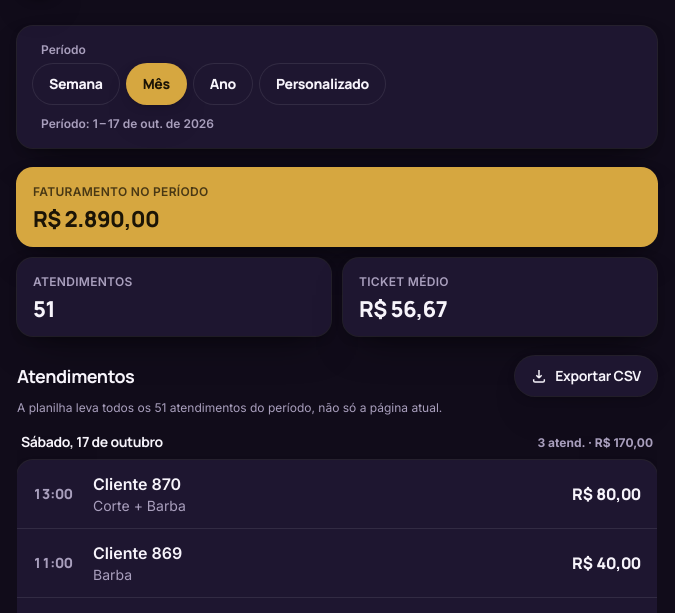
HistoryView › moves to the next page
The width and height of the screenshot is (675, 613).
Click the radio button labelled "Ano". click: (223, 84)
box: [194,64,252,104]
(page scrolled)
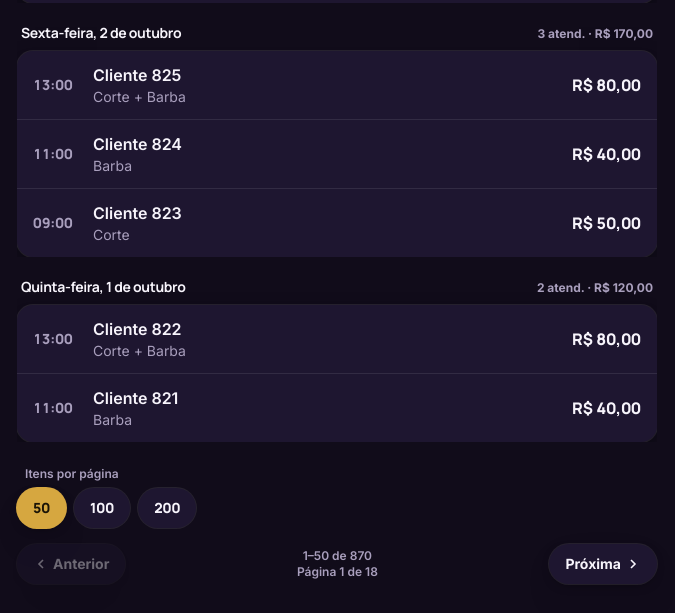
Expected: the text "1–50 de 870" is shown, [297,548,378,564]
Click the button "Próxima". click: (603, 564)
box: [549,544,657,584]
(page scrolled)
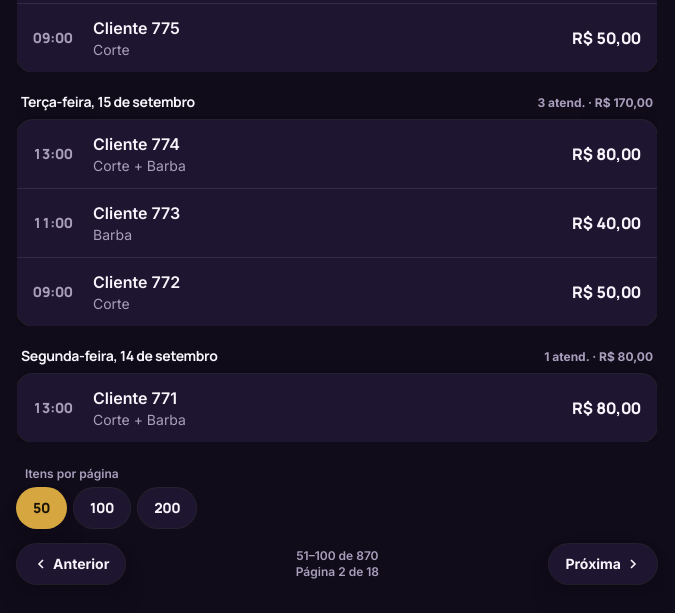
Expected: the text "51–100 de 870" is shown, [296,548,379,564]
Expected: the text "Página 2 de 18" is shown, [296,564,379,580]
